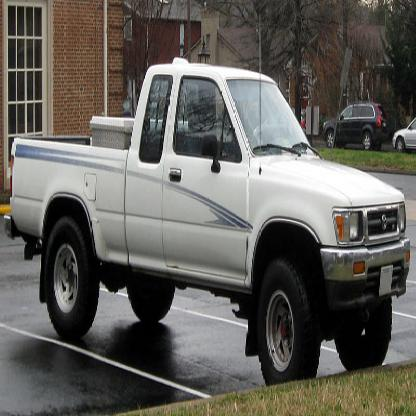light_vehicle: (10, 30, 407, 404)
